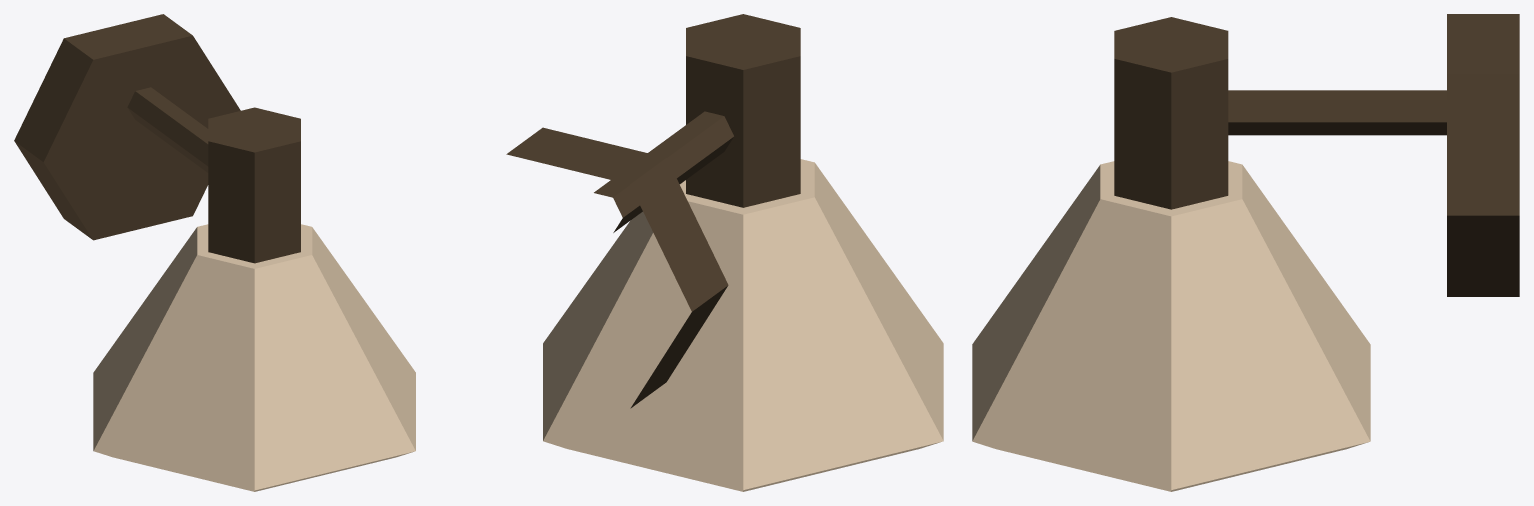
Rendered from WallLight2.glb.
3 renders of one model, left to right at view 1: azimuth 30°, elevation 25°; view 2: azimuth 150°, elevation 25°; view 3: azimuth 270°, elevation 25°, orthographic. The views are drawn at different scales.
Visible parts, largest first — view 1: WallLight; view 2: WallLight; view 3: WallLight.
Part boxes in pixels (x1,y1,x2,y2): WallLight: [14, 14, 415, 491]; WallLight: [506, 14, 943, 491]; WallLight: [972, 14, 1519, 491].
Bounding box in the file's own units: 0.3237 × 0.2814 × 0.3853.
Materials: 1 (1 with a texture image).
